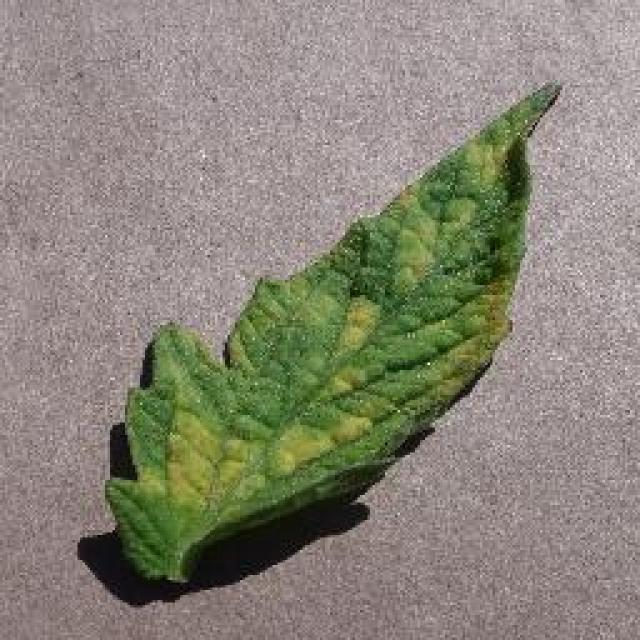Tom_Leaf_Mold: (159, 362, 379, 498), (346, 200, 486, 346)
